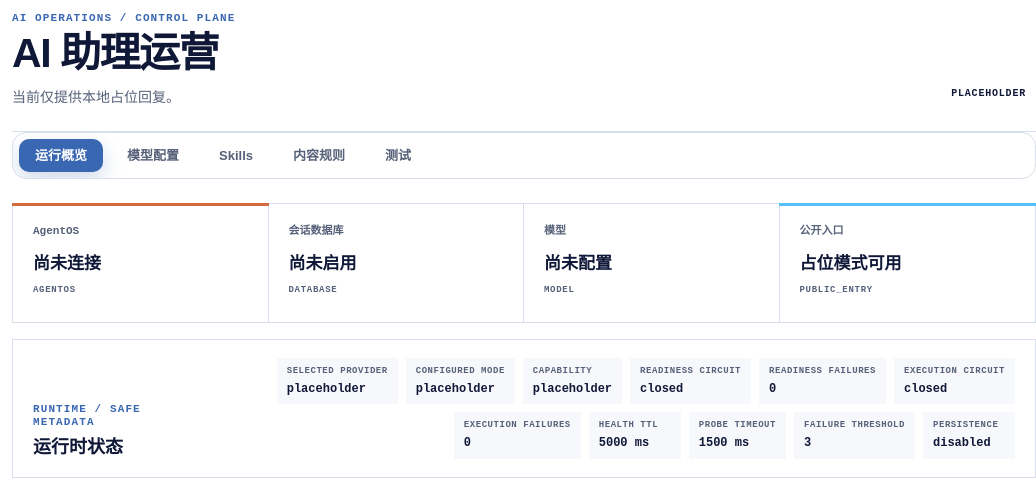
it: AdminAssistantPage › renders a degraded Skill snapshot instead of a fake normal empty library
The width and height of the screenshot is (1036, 495).
Click the tab "Skills".
click(236, 156)  # box [203,139,269,172]
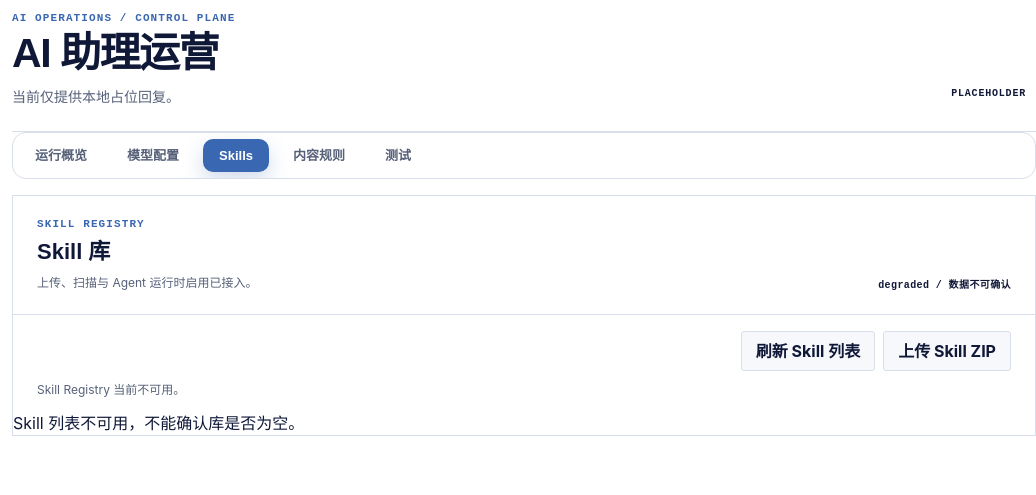
Check: the text "degraded / 数据不可确认" is shown, box [878,280,1011,292]
Check: the text "Skill 列表不可用，不能确认库是否为空。" is shown, box [13,413,304,433]
